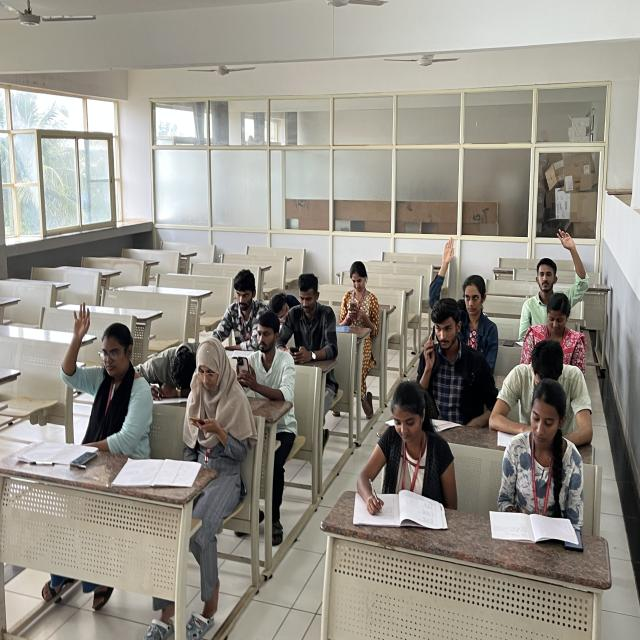Hand Rising: (60, 300, 145, 442), (425, 234, 502, 342), (514, 225, 592, 331)
Reading: (485, 380, 573, 540), (491, 338, 601, 457)
Sleeping: (136, 322, 201, 398)
Using Phone: (186, 331, 248, 454), (415, 298, 487, 397), (276, 266, 338, 368), (230, 309, 292, 401), (333, 250, 388, 324)
Writing: (352, 383, 452, 536)
